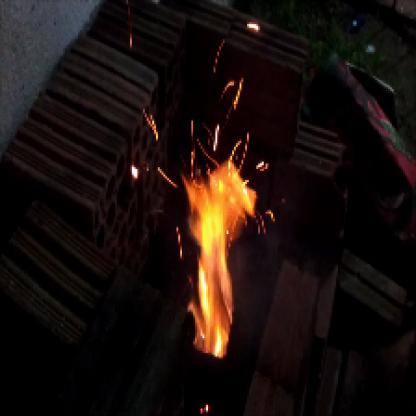Fire: (175, 134, 273, 360)
